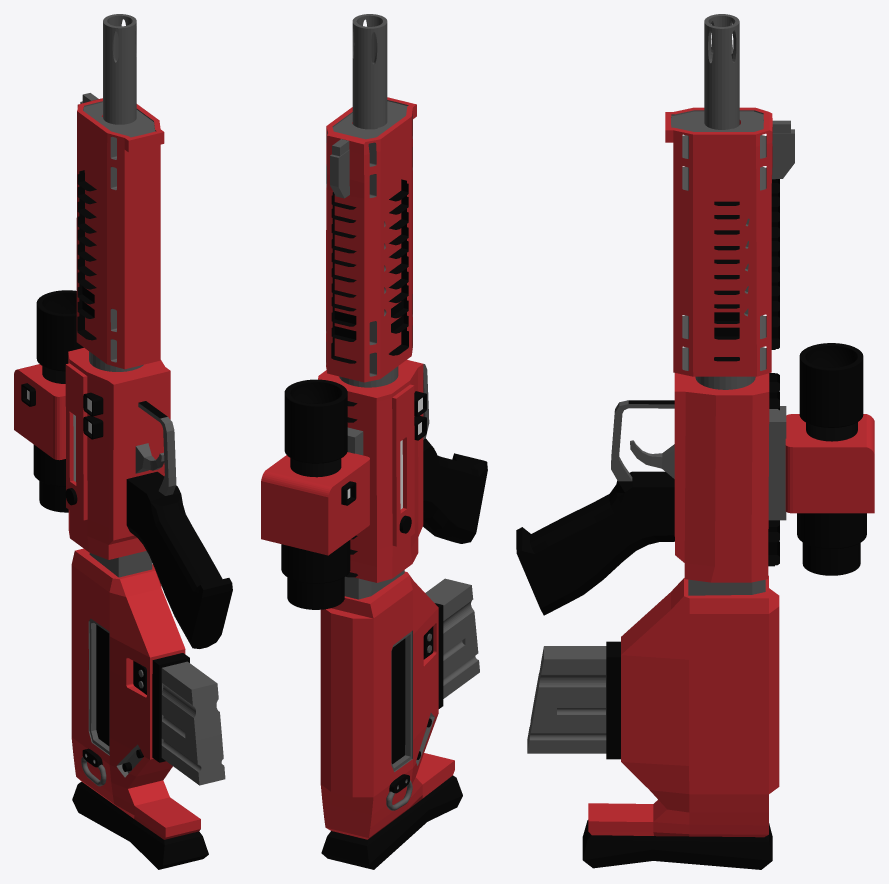
File: Rifle.fbx
3 views of the same model, side by side, from view 1: azimuth 30°, elevation 25°; view 2: azimuth 150°, elevation 25°; view 3: azimuth 270°, elevation 25° (orthographic). The views are drawn at different scales.
Parts seen in each view (by area): view 1: Magazine; view 2: Magazine; view 3: Magazine.
Boxes of the visible parts, <box> form: Magazine: <box>14,14,232,869</box>; Magazine: <box>261,14,487,869</box>; Magazine: <box>516,14,874,869</box>.
Bounding box in the file's own units: 35.63 × 349 × 135.
